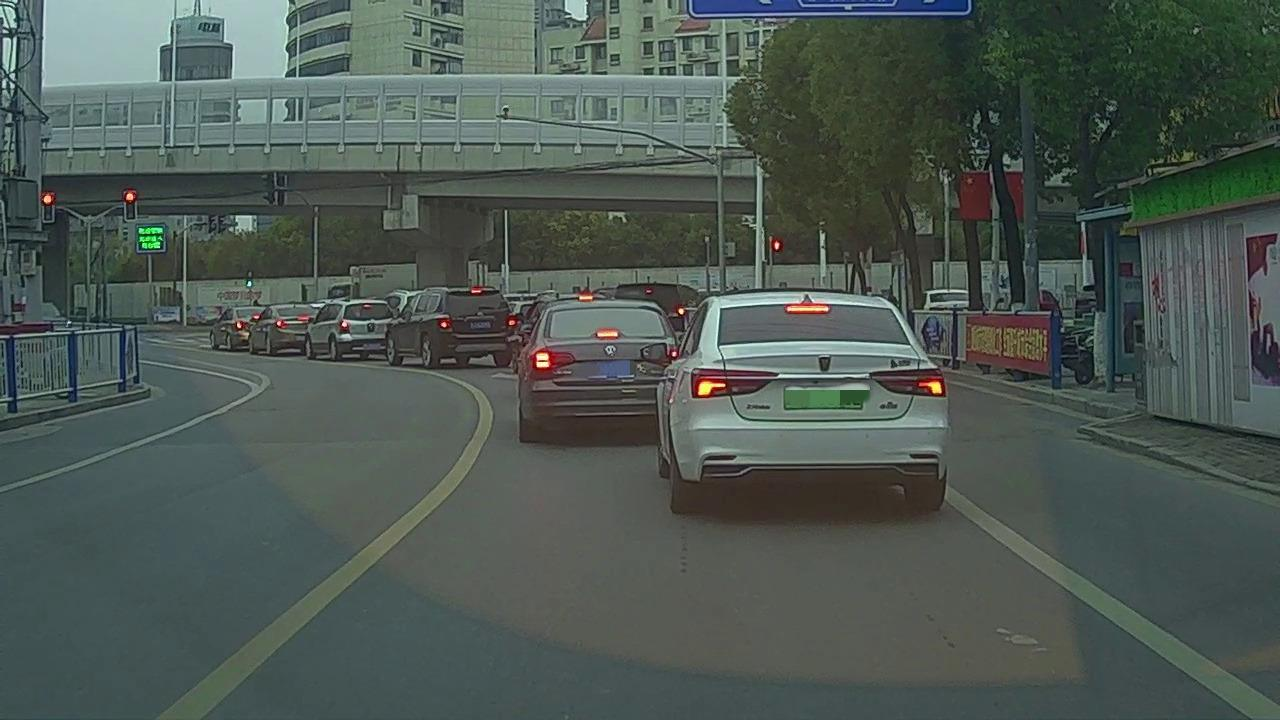traffic_light: (43, 195, 56, 222), (125, 192, 134, 215)
